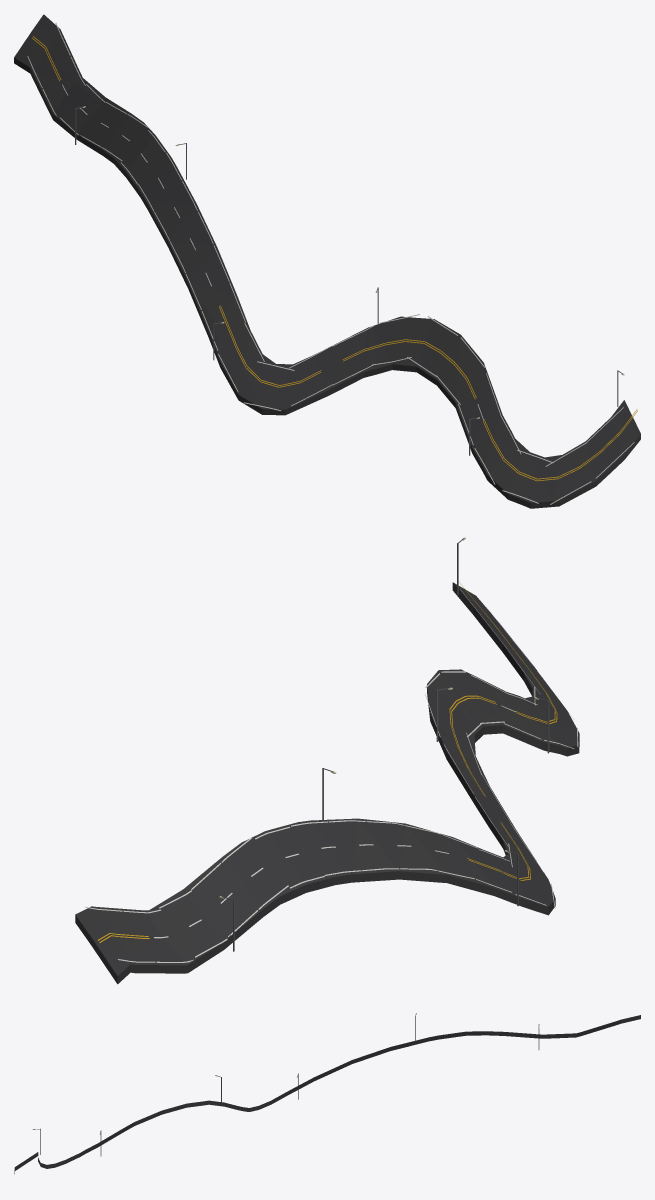
The model's file is 17-109440-59449.b24adc63.glb.
3 views of the same model, one above another, from view 1: azimuth 30°, elevation 25°; view 2: azimuth 150°, elevation 25°; view 3: azimuth 270°, elevation 25° (orthographic). The views are drawn at different scales.
Bounding box in the file's own units: 50.45 × 41.88 × 164.
